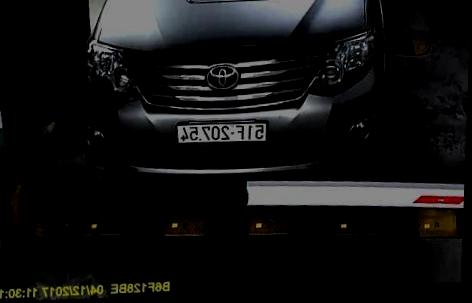License_Plate: (174, 118, 266, 146)
